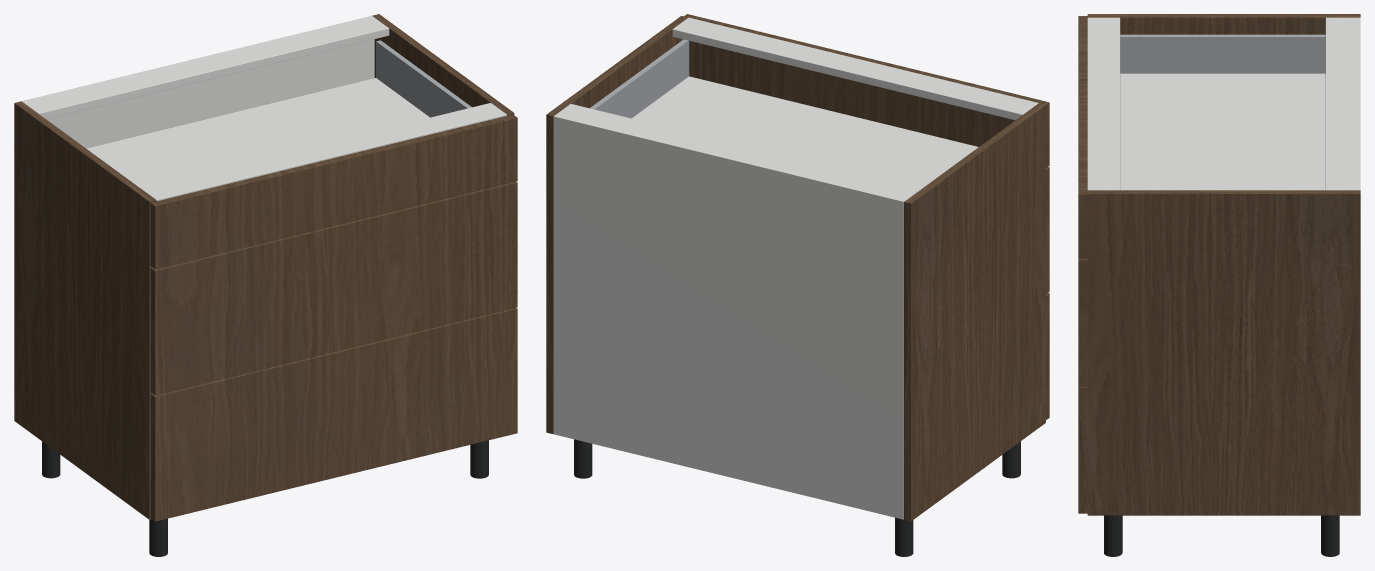
File: oppein-pb-mso-3db36.glb
3 renders of one model, left to right at view 1: azimuth 30°, elevation 25°; view 2: azimuth 150°, elevation 25°; view 3: azimuth 270°, elevation 25°, orthographic.
Visible parts, largest first — view 1: Drawer front, Drawer front.001, Cabinet side, Drawer front.002, Drawer floor.002, Cabinet back, Top support rail, Top support rail.001, Drawer side.005, Cabinet side.001, Adjustable foot.001, Adjustable foot.003; view 2: Cabinet back, Cabinet side, Drawer floor.002, Drawer front.002, Top support rail.001, Cabinet side.001, Top support rail, Drawer side.005, Adjustable foot, Adjustable foot.002; view 3: Cabinet side.001, Drawer floor.002, Drawer side.004, Top support rail.001, Top support rail, Cabinet side, Drawer front.002, Drawer front.001, Drawer front, Cabinet back, Adjustable foot.003, Adjustable foot.002.
Part boxes in pixels (bbox=[...]): Drawer front: bbox=[150, 307, 517, 521]; Drawer front.001: bbox=[150, 181, 517, 395]; Cabinet side: bbox=[14, 101, 156, 519]; Drawer front.002: bbox=[150, 114, 517, 269]; Drawer floor.002: bbox=[86, 78, 429, 188]; Cabinet back: bbox=[21, 15, 374, 148]; Top support rail: bbox=[24, 17, 389, 119]; Top support rail.001: bbox=[141, 103, 506, 201]; Drawer side.005: bbox=[376, 40, 471, 117]; Cabinet side.001: bbox=[372, 14, 514, 115]; Adjustable foot.001: bbox=[149, 518, 167, 556]; Adjustable foot.003: bbox=[470, 440, 488, 478]; Cabinet back: bbox=[553, 114, 905, 519]; Cabinet side: bbox=[904, 103, 1045, 521]; Drawer floor.002: bbox=[632, 76, 978, 188]; Drawer front.002: bbox=[684, 14, 1049, 167]; Top support rail.001: bbox=[672, 17, 1038, 120]; Cabinet side.001: bbox=[546, 16, 688, 434]; Top support rail: bbox=[556, 104, 920, 199]; Drawer side.005: bbox=[590, 39, 689, 118]; Adjustable foot: bbox=[895, 517, 913, 556]; Adjustable foot.002: bbox=[574, 439, 592, 478]; Cabinet side.001: bbox=[1087, 190, 1360, 515]; Drawer floor.002: bbox=[1120, 73, 1325, 190]; Drawer side.004: bbox=[1120, 34, 1325, 73]; Top support rail.001: bbox=[1087, 17, 1120, 190]; Top support rail: bbox=[1325, 17, 1357, 190]; Cabinet side: bbox=[1087, 14, 1360, 34]; Drawer front.002: bbox=[1078, 16, 1087, 258]; Drawer front.001: bbox=[1078, 258, 1087, 386]; Drawer front: bbox=[1078, 386, 1087, 513]; Cabinet back: bbox=[1355, 17, 1360, 190]; Adjustable foot.003: bbox=[1104, 515, 1122, 556]; Adjustable foot.002: bbox=[1321, 515, 1339, 556].
Bounding box in the file's own units: 0.9144 × 0.8763 × 0.6064.
Materials: 4 (1 with a texture image).
